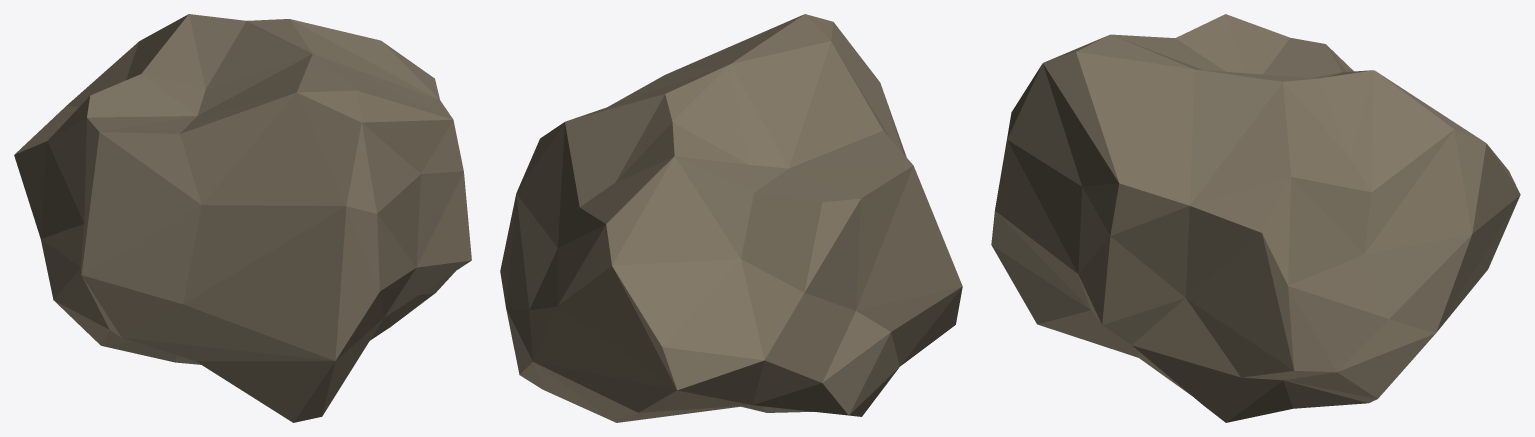
File: MediumRock_3.fbx
The picture shows the model from 3 angles, left to right: view 1: azimuth 30°, elevation 25°; view 2: azimuth 150°, elevation 25°; view 3: azimuth 270°, elevation 25°; orthographic projection.
Visible parts, largest first — view 1: MediumRock_3; view 2: MediumRock_3; view 3: MediumRock_3.
Part boxes in pixels (<box>): MediumRock_3: <box>14,14,471,422</box>; MediumRock_3: <box>500,14,962,422</box>; MediumRock_3: <box>991,14,1520,422</box>.
Size of the model in its own units: 69.36 by 54.5 by 77.3.
